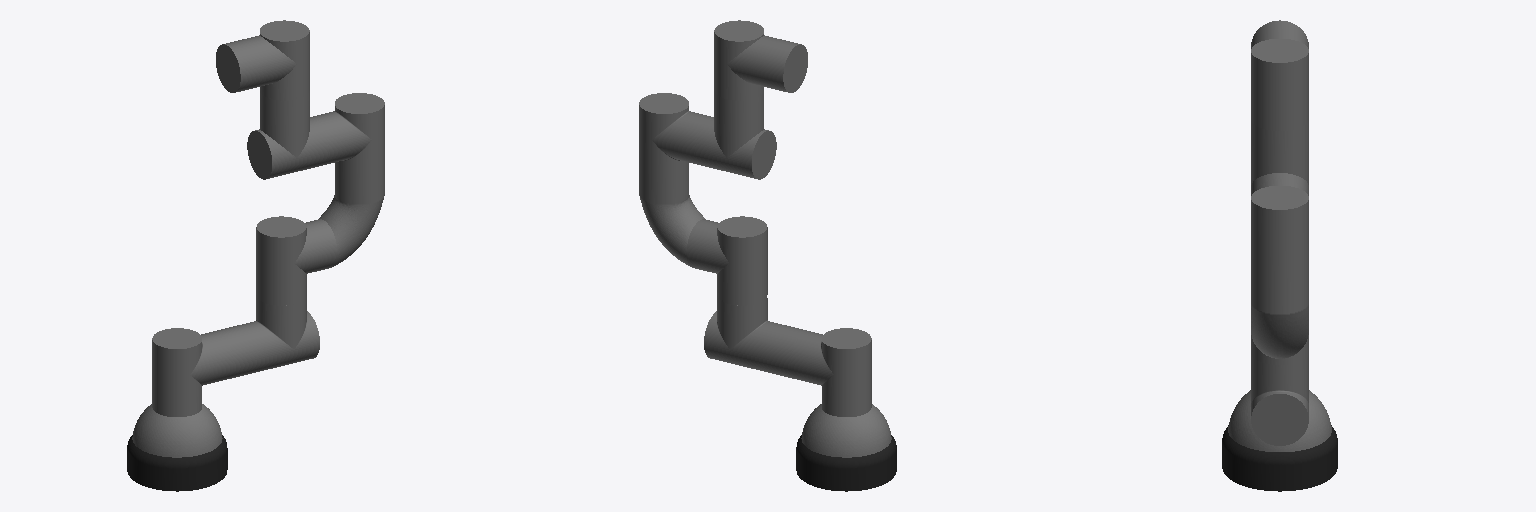
URDF robot description (arm):
<?xml version="1.0"?>
<robot name="arm">

    <material name="graphite">
        <color rgba="0.18 0.18 0.18 1.0"/>
    </material>

    <material name="aluminum">
        <color rgba="0.48 0.48 0.48 1.0"/>
    </material>

    <link name="base">
        <inertial>
            <origin xyz="0 0 0.034434" rpy="0 0 0"/>
            <mass value="1.5"/>
            <inertia
                ixx="0.004283729"
                ixy="0.0"
                ixz="0.0"
                iyy="0.004283647"
                iyz="0.0"
                izz="0.007371875"/>
        </inertial>

        <visual>
            <origin xyz="0 0 0" rpy="0 0 0"/>
            <geometry>
                <mesh filename="package://arm_description/meshes/Base.stl" scale="0.001 0.001 0.001"/>
            </geometry>
            <material name="graphite"/>
        </visual>

        <collision>
            <origin xyz="0 0 0" rpy="0 0 0"/>
            <geometry>
                <mesh filename="package://arm_description/meshes/Base.stl" scale="0.001 0.001 0.001"/>
            </geometry>
        </collision>

        
    <!-- <collision>
        <origin xyz="0 0 0.035" rpy="0 0 0"/>
        <geometry>
            <cylinder radius="0.10" length="0.07"/>
        </geometry>
    </collision> -->

    </link>

    <link name="base_link">
        <inertial>
            <origin xyz="0 0 0.029578" rpy="0 0 0"/>
            <mass value="1.5"/>
            <inertia
                ixx="0.00296583"
                ixy="0.0"
                ixz="0.0"
                iyy="0.00296577"
                iyz="0.0"
                izz="0.00485270"/>
        </inertial>

        <visual>
            <origin xyz="0 0 -0.07" rpy="0 0 0"/>
            <geometry>
                <mesh filename="package://arm_description/meshes/Base_Joint.stl" scale="0.001 0.001 0.001"/>
            </geometry>
            <material name="aluminum"/>
        </visual>

        <collision>
            <origin xyz="0 0 -0.07" rpy="0 0 0"/>
            <geometry>
                <mesh filename="package://arm_description/meshes/Base_Joint.stl" scale="0.001 0.001 0.001"/>
            </geometry>
        </collision>

        <!-- <collision>
            <origin xyz="0 0 0.035" rpy="0 0 0"/>
            <geometry>
                <cylinder radius="0.09" length="0.07"/>
            </geometry>
        </collision> -->
    </link>

    <link name="link_1">
        <inertial>
            <origin xyz="0.019577 0 0.079161" rpy="0 0 0"/>
            <mass value="1.0"/>
            <inertia
                ixx="0.00221515"
                ixy="0.0"
                ixz="-0.00021216"
                iyy="0.00310288"
                iyz="0.0"
                izz="0.00218821"/>
        </inertial>

        <visual>
            <origin xyz="0 0 -0.140" rpy="0 0 0"/>
            <geometry>
                <mesh filename="package://arm_description/meshes/JOINT1.stl" scale="0.001 0.001 0.001"/>
            </geometry>
            <material name="aluminum"/>
        </visual>

        <collision>
            <origin xyz="0 0 -0.140" rpy="0 0 0"/>
            <geometry>
                <mesh filename="package://arm_description/meshes/JOINT1.stl" scale="0.001 0.001 0.001"/>
            </geometry>
        </collision>

        <!-- Shoulder -->
        <!-- <collision>
            <origin xyz="0 0 0.075" rpy="0 1.57079632679 0"/>
            <geometry>
                <cylinder radius="0.05" length="0.10"/>
            </geometry>
        </collision> -->

        <!-- Arm -->
        <!-- <collision>
            <origin xyz="0.05 0 0.075" rpy="0 0 0"/>
            <geometry>
                <cylinder radius="0.05" length="0.15"/>
            </geometry>
        </collision> -->
    </link>

    <link name="link_2">
        <inertial>
            <origin xyz="0.108942 0 0.065777" rpy="0 0 0"/>
            <mass value="1.0"/>
            <inertia
                ixx="0.00206512"
                ixy="0.0"
                ixz="-0.00048954"
                iyy="0.00441906"
                iyz="0.0"
                izz="0.00364423"/>
        </inertial>

        <visual>
            <origin xyz="-0.100 0 -0.230" rpy="0 0 0"/>
            <geometry>
                <mesh filename="package://arm_description/meshes/JOINT2.stl" scale="0.001 0.001 0.001"/>
            </geometry>
            <material name="aluminum"/>
        </visual>

        <collision>
            <origin xyz="-0.100 0 -0.230" rpy="0 0 0"/>
            <geometry>
                <mesh filename="package://arm_description/meshes/JOINT2.stl" scale="0.001 0.001 0.001"/>
            </geometry>
        </collision>
        <!-- Horizontal arm -->
        <!-- <collision>
            <origin xyz="0.100 0 0.075" rpy="0 1.57079632679 0"/>
            <geometry>
                <cylinder radius="0.05" length="0.20"/>
            </geometry>
        </collision> -->

        <!-- Joint housing -->
        <!-- <collision>
            <origin xyz="0 0 0.075" rpy="0 0 0"/>
            <geometry>
                <cylinder radius="0.05" length="0.15"/>
            </geometry>
        </collision> -->
    </link>

    <link name="link_3">
        <inertial>
            <origin xyz="0.069576 0 0.079160" rpy="0 0 0"/>
            <mass value="1.0"/>
            <inertia
                ixx="0.00221521"
                ixy="0.0"
                ixz="-0.00021215"
                iyy="0.00310314"
                iyz="0.0"
                izz="0.00218845"/>
        </inertial>

        <visual>
            <origin xyz="-0.240 0 -0.330" rpy="0 0 0"/>
            <geometry>
                <mesh filename="package://arm_description/meshes/JOINT3.stl" scale="0.001 0.001 0.001"/>
            </geometry>
            <material name="aluminum"/>
        </visual>

        <collision>
            <origin xyz="-0.240 0 -0.330" rpy="0 0 0"/>
            <geometry>
                <mesh filename="package://arm_description/meshes/JOINT3.stl" scale="0.001 0.001 0.001"/>
            </geometry>
        </collision>

        <!-- Vertical joint housing -->
        <!-- <collision>
            <origin xyz="0 0 0.075" rpy="0 0 0"/>
            <geometry>
                <cylinder radius="0.05" length="0.15"/>
            </geometry>
        </collision> -->

        <!-- Horizontal arm -->
        <!-- <collision>
            <origin xyz="0.075 0 0.075" rpy="0 1.57079632679 0"/>
            <geometry>
                <cylinder radius="0.05" length="0.15"/>
            </geometry>
        </collision> -->
    </link>

    <link name="link_4">
        <inertial>
            <origin xyz="0.080453 0 0.195867" rpy="0 0 0"/>
            <mass value="1.0"/>
            <inertia
                ixx="0.00903418"
                ixy="0.0"
                ixz="-0.00027018"
                iyy="0.00968988"
                iyz="0.0"
                izz="0.00193348"/>
        </inertial>

        <visual>
            <origin xyz="-0.340 0 -0.420" rpy="0 0 0"/>
            <geometry>
                <mesh filename="package://arm_description/meshes/JOINT4.stl" scale="0.001 0.001 0.001"/>
            </geometry>
            <material name="aluminum"/>
        </visual>

        <collision>
            <origin xyz="-0.340 0 -0.420" rpy="0 0 0"/>
            <geometry>
                <mesh filename="package://arm_description/meshes/JOINT4.stl" scale="0.001 0.001 0.001"/>
            </geometry>
        </collision>
        <!-- <collision>
            <origin xyz="0.075 0 0.170" rpy="0 0 0"/>
            <geometry>
                <cylinder radius="0.05" length="0.34"/>
            </geometry>
        </collision> -->
    </link>

    <link name="link_5">
        <inertial>
            <origin xyz="-0.061801 0 0.084534" rpy="0 0 0"/>
            <mass value="0.6"/>
            <inertia
                ixx="0.00183933"
                ixy="0.0"
                ixz="0.00009839"
                iyy="0.00211001"
                iyz="0.0"
                izz="0.00104943"/>
        </inertial>

        <visual>
            <origin xyz="-0.320 0 -0.650" rpy="0 0 0"/>
            <geometry>
                <mesh filename="package://arm_description/meshes/JOINT5.stl" scale="0.001 0.001 0.001"/>
            </geometry>
            <material name="aluminum"/>
        </visual>

        <collision>
            <origin xyz="-0.320 0 -0.650" rpy="0 0 0"/>
            <geometry>
                <mesh filename="package://arm_description/meshes/JOINT5.stl" scale="0.001 0.001 0.001"/>
            </geometry>
        </collision>
        <!-- <collision>
            <origin xyz="0.065 0 0.090" rpy="0 0 0"/>
            <geometry>
                <cylinder radius="0.05" length="0.18"/>
            </geometry>
        </collision> -->
    </link>

    <link name="link_6">
        <inertial>
            <origin xyz="-0.095466 0 0.069956" rpy="0 0 0"/>
            <mass value="0.6"/>
            <inertia
                ixx="0.00106231"
                ixy="0.0"
                ixz="0.00015242"
                iyy="0.00212277"
                iyz="0.0"
                izz="0.00183934"/>
        </inertial>

        <visual>
            <origin xyz="-0.247055 0 -0.780" rpy="0 0 0"/>
            <geometry>
                <mesh filename="package://arm_description/meshes/JOINT6.stl" scale="0.001 0.001 0.001"/>
            </geometry>
            <material name="aluminum"/>
        </visual>

        <collision>
            <origin xyz="-0.247055 0 -0.780" rpy="0 0 0"/>
            <geometry>
                <mesh filename="package://arm_description/meshes/JOINT6.stl" scale="0.001 0.001 0.001"/>
            </geometry>
        </collision>

        <!-- <collision>
            <origin xyz="0.090 0 0.065" rpy="0 0 0"/>
            <geometry>
                <cylinder radius="0.05" length="0.13"/>
            </geometry>
        </collision> -->
    </link>

    <!-- Joints -->
    <joint name="base_joint" type="revolute">
        <origin xyz="0 0 0.07" rpy="0 0 0"/>
        <parent link="base"/>
        <child link="base_link"/>
        <axis xyz="0 0 1"/>
        <limit
            lower="-3.14159265359"
            upper="3.14159265359"
            effort="50"
            velocity="2.0"/>
    </joint>

    <joint name="base_link1_joint" type="fixed">
        <origin xyz="0 0 0.07" rpy="0 0 0"/>
        <parent link="base_link"/>
        <child link="link_1"/>
    </joint>

    <joint name="link1_link2_joint" type="revolute">
        <origin xyz="0.100 0 0.090" rpy="0 0 0"/>
        <parent link="link_1"/>
        <child link="link_2"/>
        <axis xyz="1 0 0"/>
        <limit
            lower="-3.14159265359"
            upper="3.14159265359"
            effort="50"
            velocity="2.0"/>
    </joint>

    <joint name="link2_link3_joint" type="revolute">
        <origin xyz="0.140 0 0.100" rpy="0 0 0"/>
        <parent link="link_2"/>
        <child link="link_3"/>
        <axis xyz="0 0 1"/>
        <limit
            lower="-3.14159265359"
            upper="3.14159265359"
            effort="50"
            velocity="2.0"/>
    </joint>

    <joint name="link3_link4_joint" type="revolute">
        <origin xyz="0.100 0 0.090" rpy="0 0 0"/>
        <parent link="link_3"/>
        <child link="link_4"/>
        <axis xyz="1 0 0"/>
        <limit
            lower="-3.14159265359"
            upper="3.14159265359"
            effort="50"
            velocity="2.0"/>
    </joint>

    <joint name="link4_link5_joint" type="revolute">
        <origin xyz="-0.020 0 0.230" rpy="0 0 0"/>
        <parent link="link_4"/>
        <child link="link_5"/>
        <axis xyz="1 0 0"/>
        <limit
            lower="-3.14159265359"
            upper="3.14159265359"
            effort="50"
            velocity="2.0"/>
    </joint>

    <joint name="link5_link6_joint" type="revolute">
        <origin xyz="-0.07295 0 0.130" rpy="0 0 0"/>
        <parent link="link_5"/>
        <child link="link_6"/>
        <axis xyz="0 0 1"/>
        <limit
            lower="-3.14159265359"
            upper="3.14159265359"
            effort="50"
            velocity="2.0"/>
    </joint>
</robot>

--- Render facts (derived) ---
3 views of the same robot in one strip: view 1: azimuth 30°, elevation 25°; view 2: azimuth 150°, elevation 25°; view 3: azimuth 270°, elevation 25° (orthographic).
Robot: arm — 8 links, 7 joints (6 revolute, 1 fixed); root link base; default pose: every joint at zero.
Visible links, largest first — view 1: link_4, link_6, link_3, link_1, link_2, link_5, base, base_link; view 2: link_4, link_6, link_3, link_1, link_2, link_5, base, base_link; view 3: link_4, link_6, base, link_2, link_5, base_link, link_3.
Link boxes in pixels (x1=…): link_4: x1=313, y1=93, x2=384, y2=266; link_6: x1=216, y1=20, x2=309, y2=100; link_3: x1=256, y1=216, x2=336, y2=305; link_1: x1=152, y1=328, x2=232, y2=416; link_2: x1=217, y1=295, x2=319, y2=378; link_5: x1=247, y1=91, x2=328, y2=179; base: x1=127, y1=435, x2=227, y2=491; base_link: x1=132, y1=404, x2=222, y2=457; link_4: x1=639, y1=93, x2=710, y2=266; link_6: x1=714, y1=20, x2=807, y2=100; link_3: x1=687, y1=216, x2=767, y2=305; link_1: x1=791, y1=328, x2=871, y2=416; link_2: x1=704, y1=296, x2=806, y2=378; link_5: x1=695, y1=91, x2=776, y2=179; base: x1=796, y1=435, x2=896, y2=491; base_link: x1=801, y1=404, x2=891, y2=457; link_4: x1=1251, y1=179, x2=1308, y2=358; link_6: x1=1251, y1=20, x2=1308, y2=130; base: x1=1222, y1=425, x2=1337, y2=491; link_2: x1=1251, y1=355, x2=1308, y2=445; link_5: x1=1251, y1=121, x2=1308, y2=195; base_link: x1=1228, y1=390, x2=1331, y2=451; link_3: x1=1251, y1=335, x2=1308, y2=364.
Size in the robot's own frame: 0.57 by 0.2 by 0.91 metres.
Meshes: 8 distinct files referenced, 8 mesh visuals loaded (8 binary STL).
